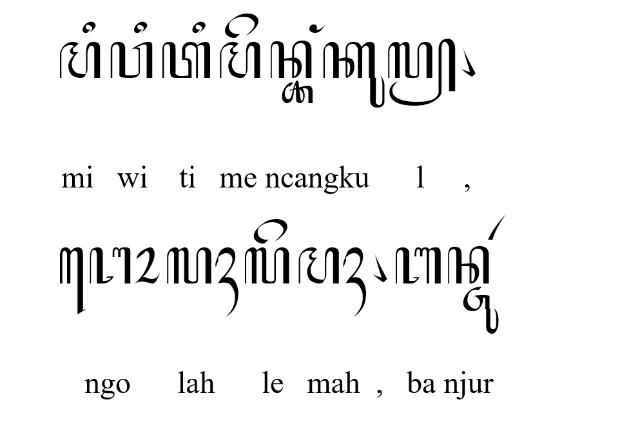-l: (388, 39, 456, 106)
_c: (281, 80, 313, 104)
_h1: (342, 247, 368, 318), (215, 247, 239, 318)
_ju: (464, 286, 498, 334)
_r1: (488, 214, 507, 240)
b: (395, 247, 441, 284)
e: (225, 12, 259, 38), (253, 218, 287, 244)
e1: (58, 247, 86, 315)
i: (82, 21, 96, 33), (134, 21, 148, 33), (192, 21, 206, 33)
kom: (371, 252, 387, 282), (461, 48, 475, 76)
ku: (323, 42, 385, 109)
l: (166, 246, 212, 284), (244, 247, 290, 284)
m: (298, 247, 340, 285), (59, 41, 101, 78), (220, 41, 260, 79)
n: (270, 40, 312, 78), (448, 246, 488, 284)
ng: (309, 24, 325, 32)
nga: (89, 247, 131, 285)
o: (134, 246, 160, 284)
t: (162, 41, 210, 78)
w: (111, 41, 153, 78)
